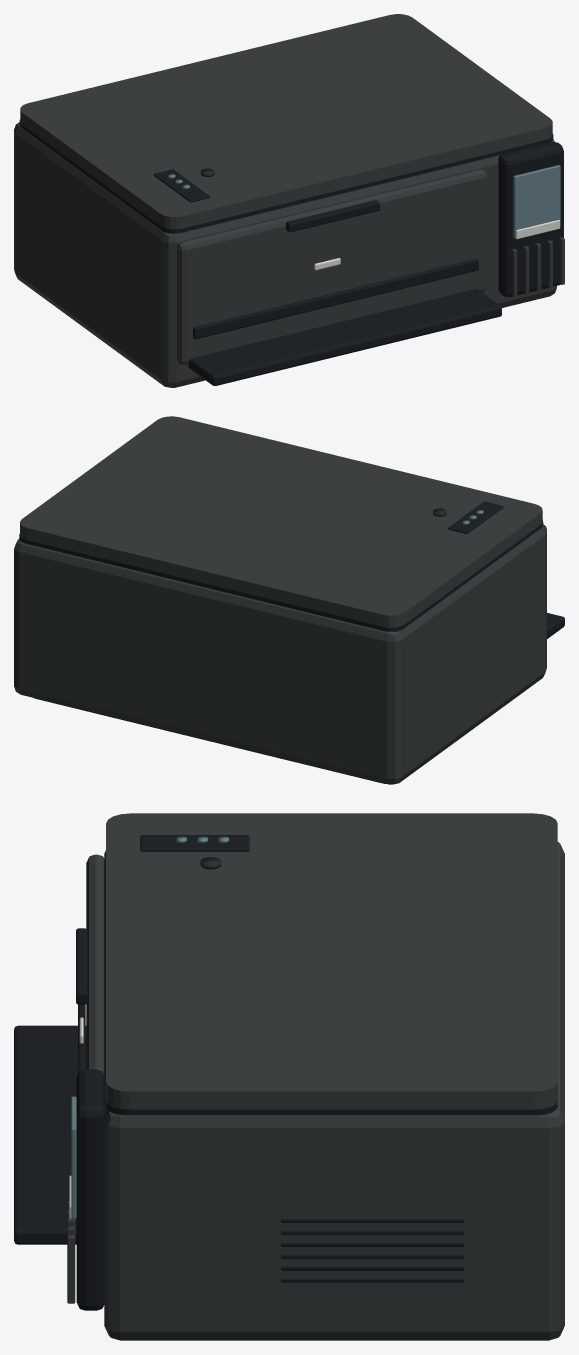
3 views of the same model, one above another, from view 1: azimuth 30°, elevation 25°; view 2: azimuth 150°, elevation 25°; view 3: azimuth 270°, elevation 25° (orthographic). The views are drawn at different scales.
Visible parts, largest first — view 1: Low wide charcoal printer body, Bottom shadow plinth, Muted blue grey ink window, Ink window lower white glint; view 2: Low wide charcoal printer body, Bottom shadow plinth; view 3: Low wide charcoal printer body, Bottom shadow plinth, Muted blue grey ink window.
Boxes of the visible parts, bbox=[...] form: Low wide charcoal printer body: bbox=[14, 14, 564, 387]; Bottom shadow plinth: bbox=[19, 119, 563, 385]; Muted blue grey ink window: bbox=[168, 165, 560, 238]; Ink window lower white glint: bbox=[314, 220, 559, 270]; Low wide charcoal printer body: bbox=[14, 416, 546, 784]; Bottom shadow plinth: bbox=[19, 501, 564, 783]; Low wide charcoal printer body: bbox=[67, 813, 564, 1340]; Bottom shadow plinth: bbox=[14, 835, 557, 1310]; Muted blue grey ink window: bbox=[71, 836, 229, 1218].
Size of the model in its own units: 0.5065 by 0.224 by 0.4185.
